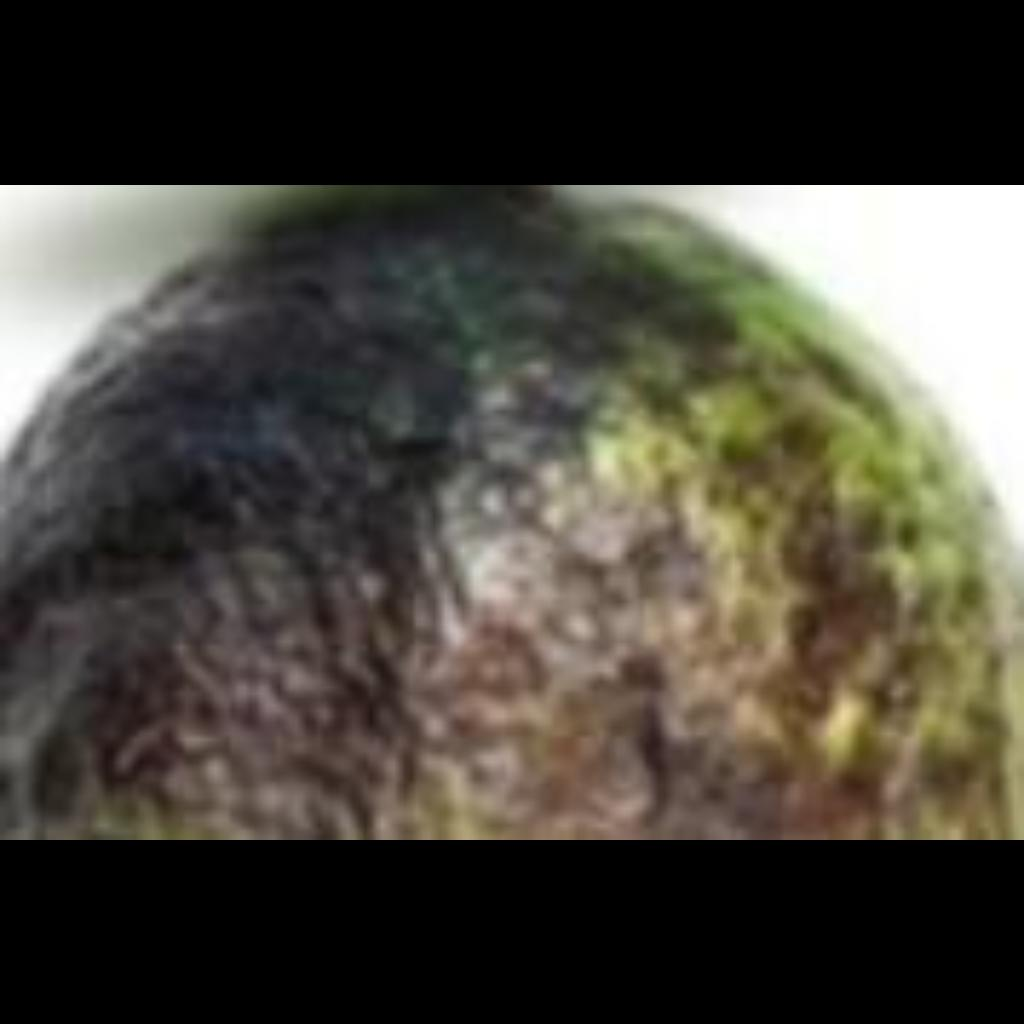Anthracnose: (32, 213, 1010, 829)
